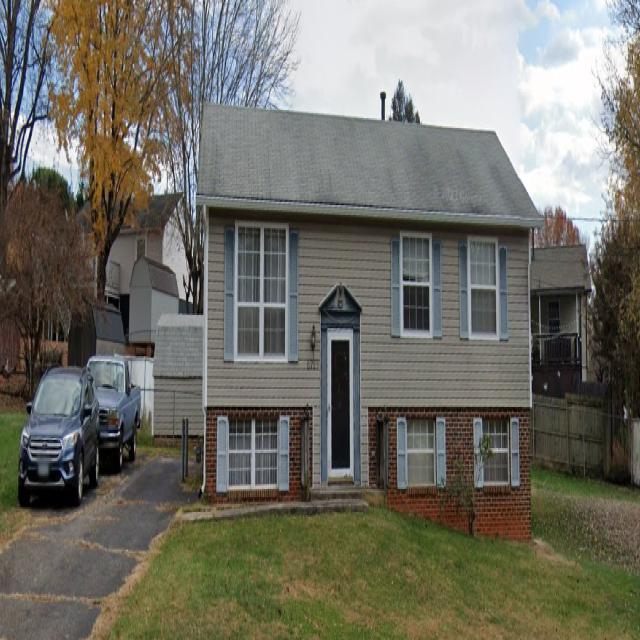House: (191, 92, 545, 545), (67, 192, 203, 342), (531, 228, 592, 389)
